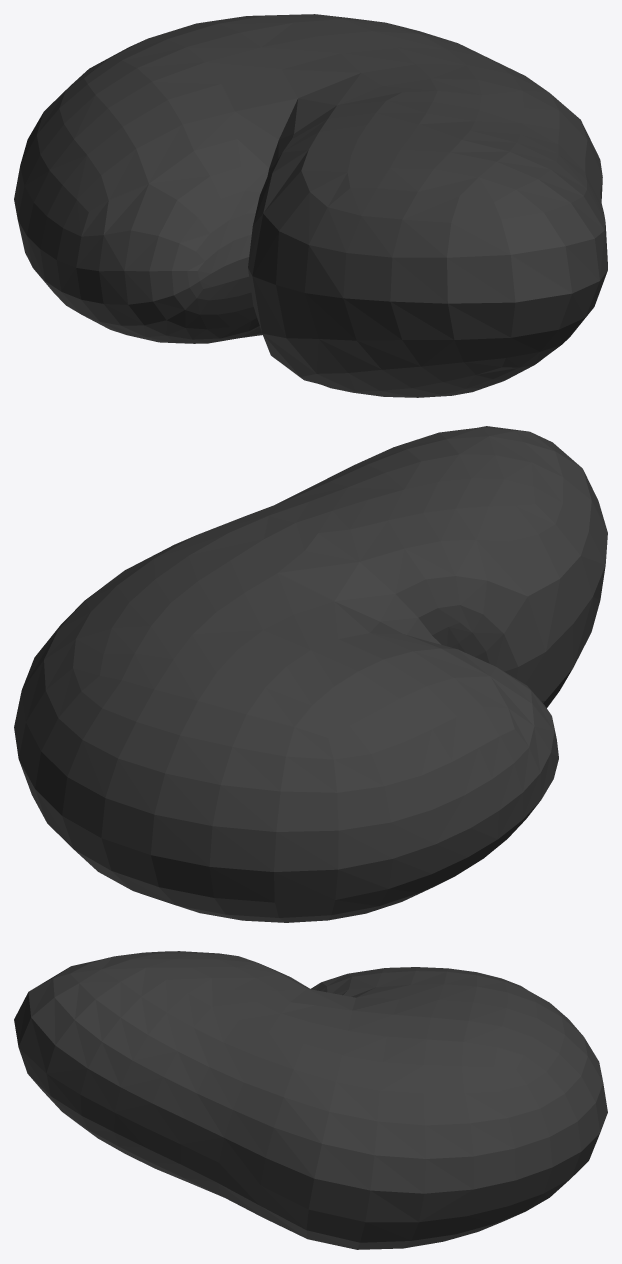
File: Kidney_L.glb
3 views of the same model, one above another, from view 1: azimuth 30°, elevation 25°; view 2: azimuth 150°, elevation 25°; view 3: azimuth 270°, elevation 25° (orthographic). The views are drawn at different scales.
Parts seen in each view (by area): view 1: Kidney_L; view 2: Kidney_L; view 3: Kidney_L.
Part boxes in pixels (<box>): Kidney_L: <box>14,14,607,397</box>; Kidney_L: <box>14,426,607,922</box>; Kidney_L: <box>14,951,607,1249</box>.
Bounding box in the file's own units: 0.2106 × 0.125 × 0.2891.
1 material, 1 textured.
